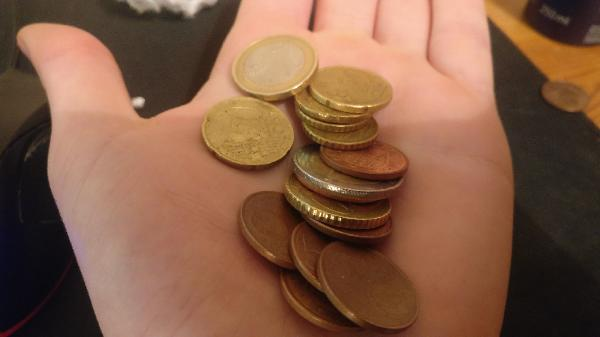Five Cent: (321, 242, 422, 331), (284, 222, 382, 298), (276, 264, 379, 336), (238, 190, 303, 268), (319, 137, 413, 179), (539, 79, 592, 113)
One Euro: (232, 33, 320, 98)
Ten Cent: (296, 93, 376, 123), (296, 110, 375, 133), (311, 127, 380, 148)
Twenty Cent: (203, 95, 291, 169)
Two Euro: (291, 143, 408, 197)
